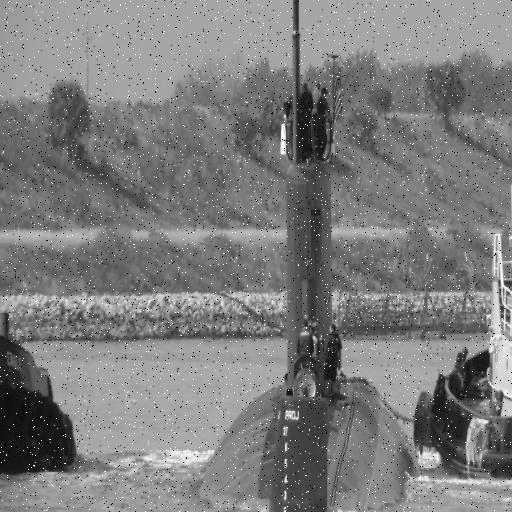submarine: (192, 1, 425, 512)
